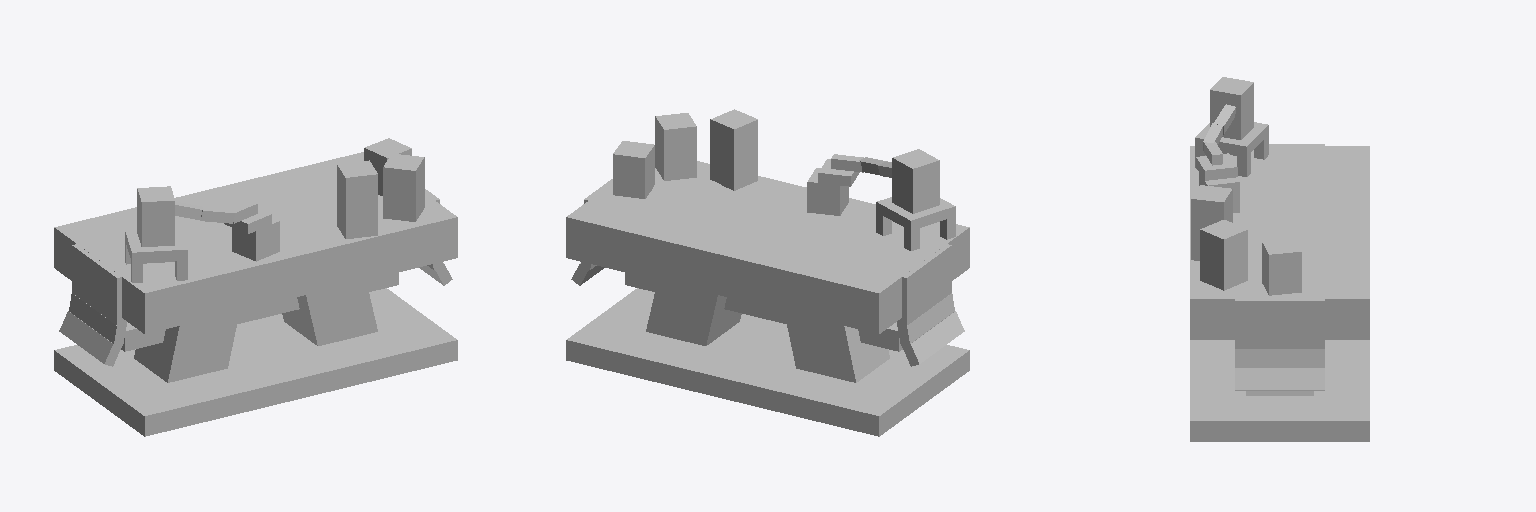
The model's file is ModelAlchemyTable.obj.
3 views of the same model, side by side, from view 1: azimuth 30°, elevation 25°; view 2: azimuth 150°, elevation 25°; view 3: azimuth 270°, elevation 25° (orthographic).
Visible parts, largest first — view 1: Top, Base, Pillar2, Pillar1, Jar3, Carpet2, Jar2, CrucibleJar, BeamCasing, CarpetLowest2, Decanter1, CarpetLow2 (+4 smaller); view 2: Top, Base, Pillar2, Pillar1, Jar3, CrucibleJar, Carpet2, Jar2, Jar1, Recipe, BeamCasing, CarpetLowest2 (+4 smaller); view 3: Top, Base, Carpet1, Jar2, Jar1, CarpetLowest1, CrucibleJar, Jar3, CarpetLow1, Decanter2, CrucibleSide2.
Part boxes in pixels (left/top/right/bottom): Top: left=54, top=152, right=457, bottom=333; Base: left=54, top=288, right=457, bottom=436; Pillar2: left=134, top=311, right=239, bottom=382; Pillar1: left=282, top=281, right=377, bottom=345; Jar3: left=337, top=160, right=377, bottom=238; Carpet2: left=72, top=244, right=126, bottom=328; Jar2: left=383, top=154, right=424, bottom=221; CrucibleJar: left=137, top=186, right=174, bottom=263; BeamCasing: left=121, top=273, right=398, bottom=351; CarpetLowest2: left=59, top=311, right=121, bottom=366; Decanter1: left=232, top=218, right=279, bottom=261; CarpetLow2: left=69, top=293, right=125, bottom=345; Top: left=566, top=161, right=969, bottom=333; Base: left=566, top=288, right=969, bottom=436; Pillar2: left=784, top=311, right=889, bottom=382; Pillar1: left=646, top=281, right=741, bottom=345; Jar3: left=710, top=109, right=757, bottom=190; CrucibleJar: left=892, top=149, right=939, bottom=213; Carpet2: left=897, top=244, right=951, bottom=328; Jar2: left=655, top=113, right=696, bottom=180; Jar1: left=613, top=141, right=654, bottom=198; Recipe: left=653, top=178, right=731, bottom=211; BeamCasing: left=625, top=273, right=902, bottom=351; CarpetLowest2: left=902, top=311, right=964, bottom=366; Top: left=1190, top=146, right=1369, bottom=339; Base: left=1190, top=340, right=1369, bottom=441; Carpet1: left=1235, top=299, right=1324, bottom=348; Jar2: left=1200, top=220, right=1247, bottom=290; Jar1: left=1262, top=238, right=1301, bottom=295; CarpetLowest1: left=1235, top=368, right=1324, bottom=390; CrucibleJar: left=1210, top=77, right=1253, bottom=155; Jar3: left=1191, top=185, right=1232, bottom=260; CarpetLow1: left=1235, top=349, right=1324, bottom=367; Decanter2: left=1196, top=153, right=1237, bottom=180; CrucibleSide2: left=1237, top=123, right=1268, bottom=156.
Bounding box in the file's own units: 2.23 × 1.34 × 1.